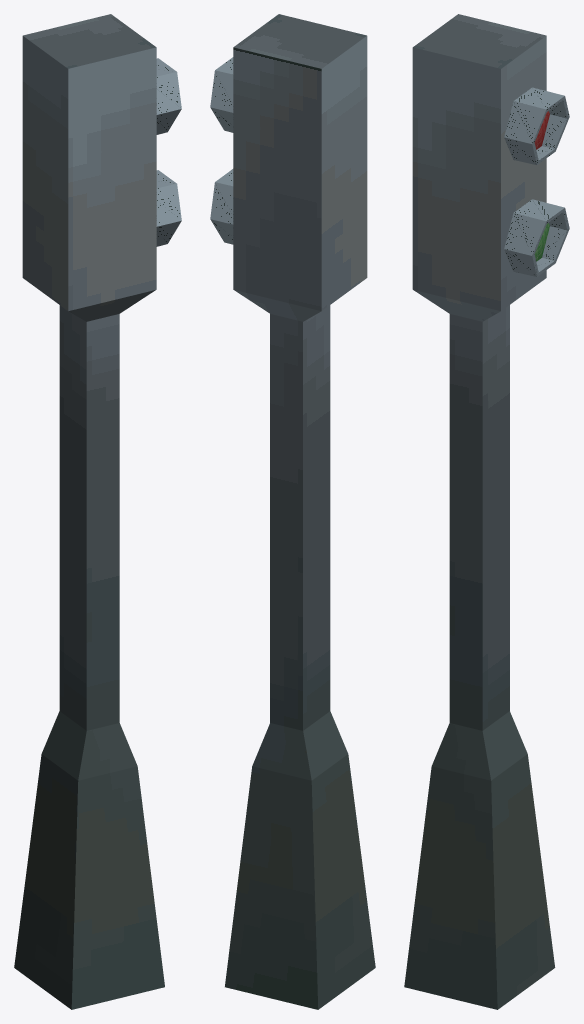
Rendered from traffic_light.fbx.
3 views of the same model, side by side, from view 1: azimuth 30°, elevation 25°; view 2: azimuth 150°, elevation 25°; view 3: azimuth 330°, elevation 25° (orthographic).
Visible parts, largest first — view 1: trafic_light, Circle, Circle.001; view 2: trafic_light, Circle, Circle.001; view 3: trafic_light, Circle.001, Circle.
Part boxes in pixels (bbox=[...]): trafic_light: bbox=[14, 14, 164, 1009]; Circle: bbox=[156, 170, 181, 246]; Circle.001: bbox=[156, 58, 181, 134]; trafic_light: bbox=[225, 14, 375, 1009]; Circle: bbox=[210, 169, 233, 244]; Circle.001: bbox=[210, 57, 233, 132]; trafic_light: bbox=[404, 14, 555, 1009]; Circle.001: bbox=[504, 87, 569, 164]; Circle: bbox=[504, 199, 569, 276].
Bounding box in the file's own units: 33.01 × 238 × 26.58.
Materials: 3 (3 with a texture image).
